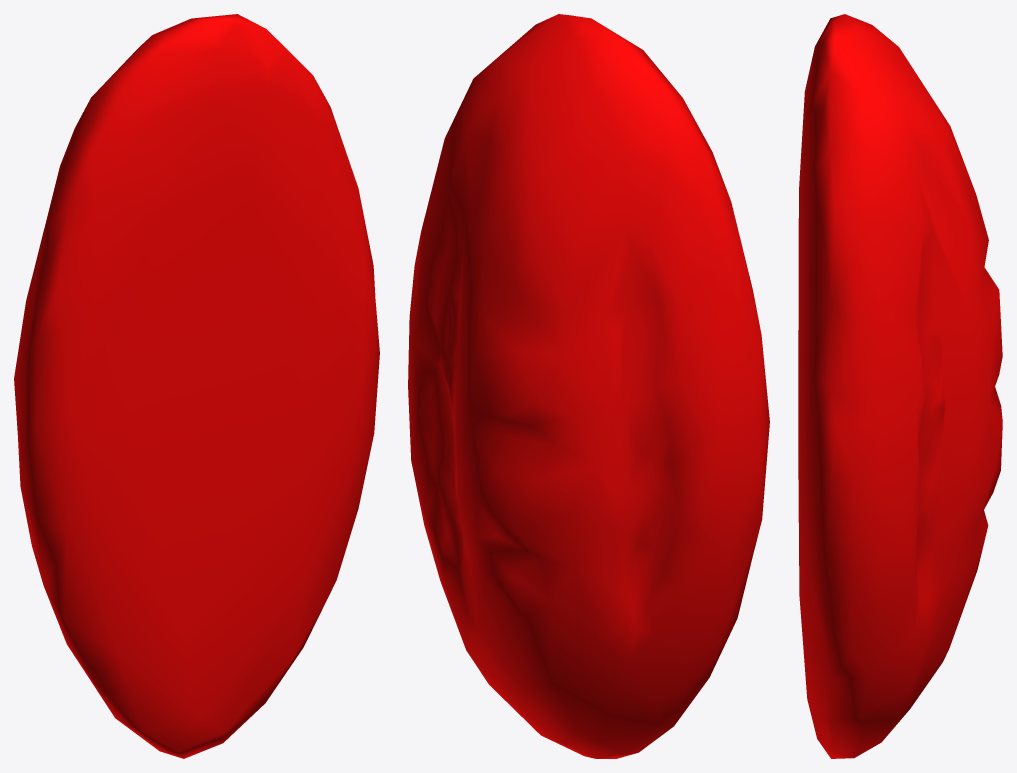
File: Bread.fbx
The picture shows the model from 3 angles, left to right: view 1: azimuth 30°, elevation 25°; view 2: azimuth 150°, elevation 25°; view 3: azimuth 270°, elevation 25°; orthographic projection.
Visible parts, largest first — view 1: loafbread_a_mesh; view 2: loafbread_a_mesh; view 3: loafbread_a_mesh.
Boxes of the visible parts, bbox=[...] form: loafbread_a_mesh: bbox=[14, 14, 379, 758]; loafbread_a_mesh: bbox=[408, 14, 769, 758]; loafbread_a_mesh: bbox=[798, 14, 1002, 758].
Size of the model in its own units: 1756 by 3533 by 889.
